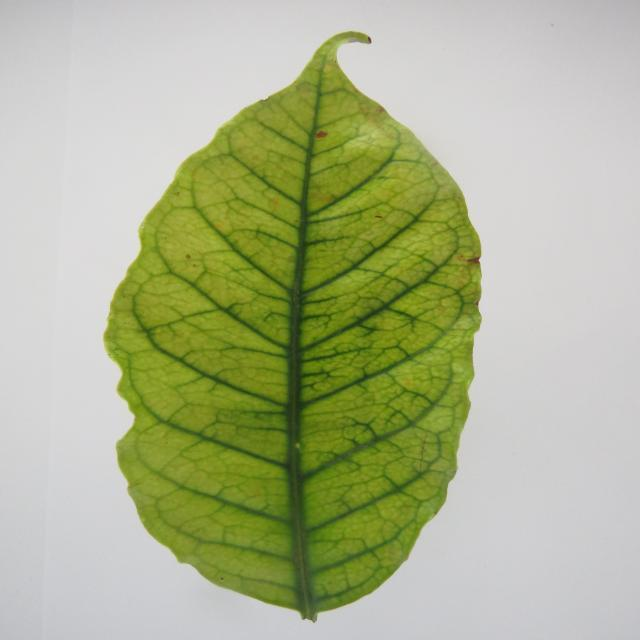DeficienciaNutricional-Manganeso: (105, 32, 480, 619)
